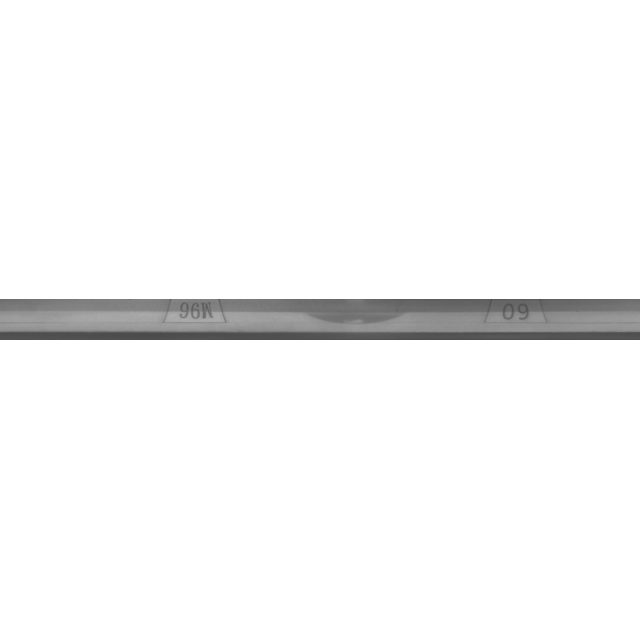mohao: (89, 270, 289, 370)
xuehao: (417, 270, 617, 370)
